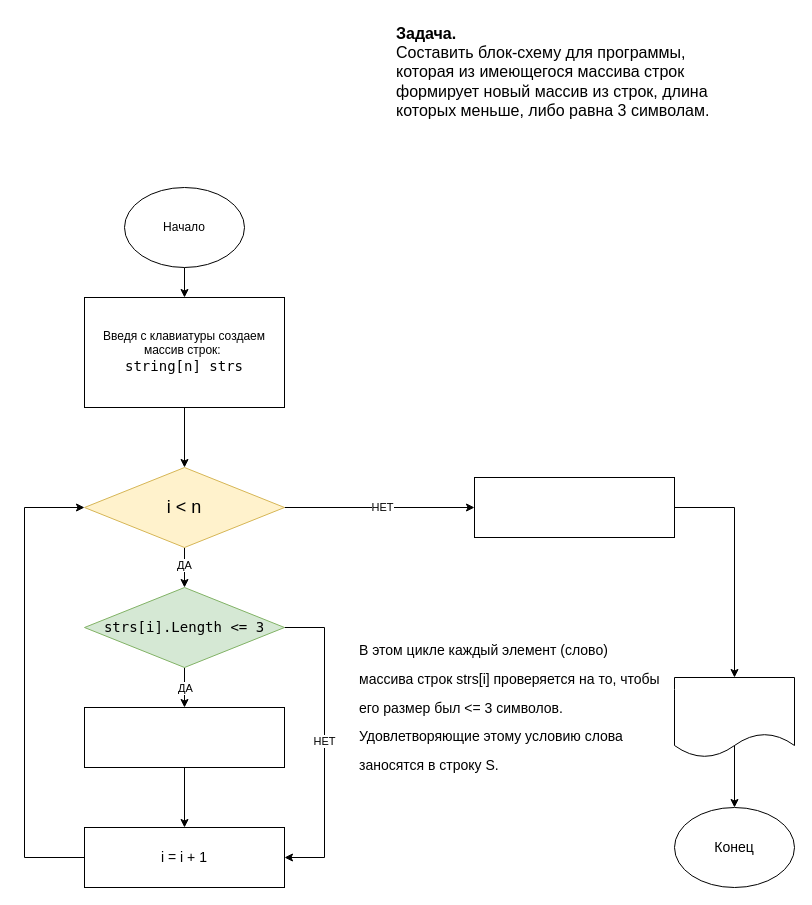
Image size: 812x905. Some labels were removed from this diagram. The shapes that lost their labels are listed below. From the top down, each one's box as (x1, y1, x2, y2) in pixels, then its label:
(474, 476, 674, 538): из строки S полученные слова заносим в массив new_strs
(84, 706, 284, 768): добавляем к строке S элемент массива strs[i]
(674, 676, 794, 758): print(new_strs)
